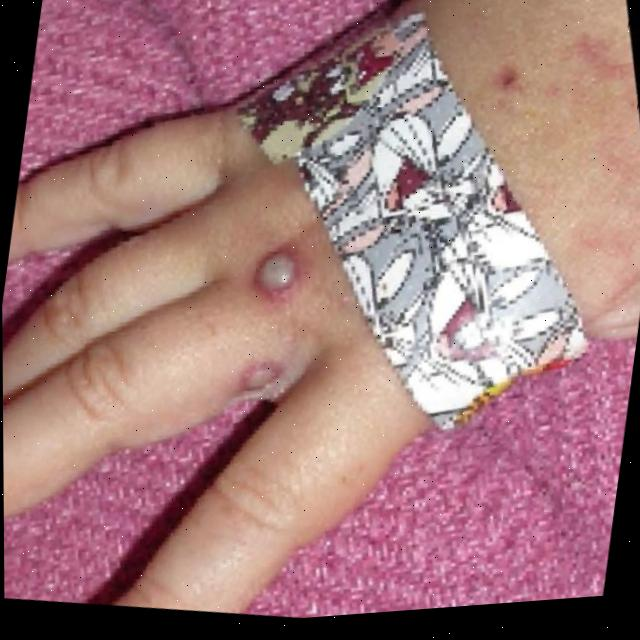Eczema: (485, 13, 640, 257), (260, 227, 305, 292), (242, 365, 272, 400)
